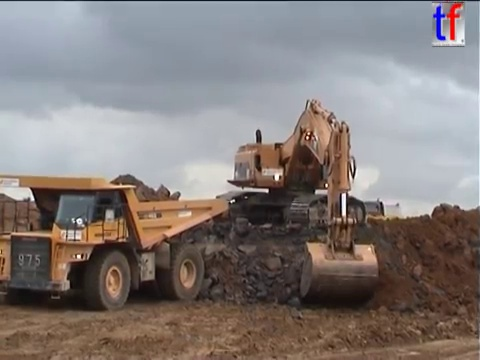excavator: (213, 96, 383, 304)
truck: (1, 172, 231, 312), (353, 198, 403, 230)
